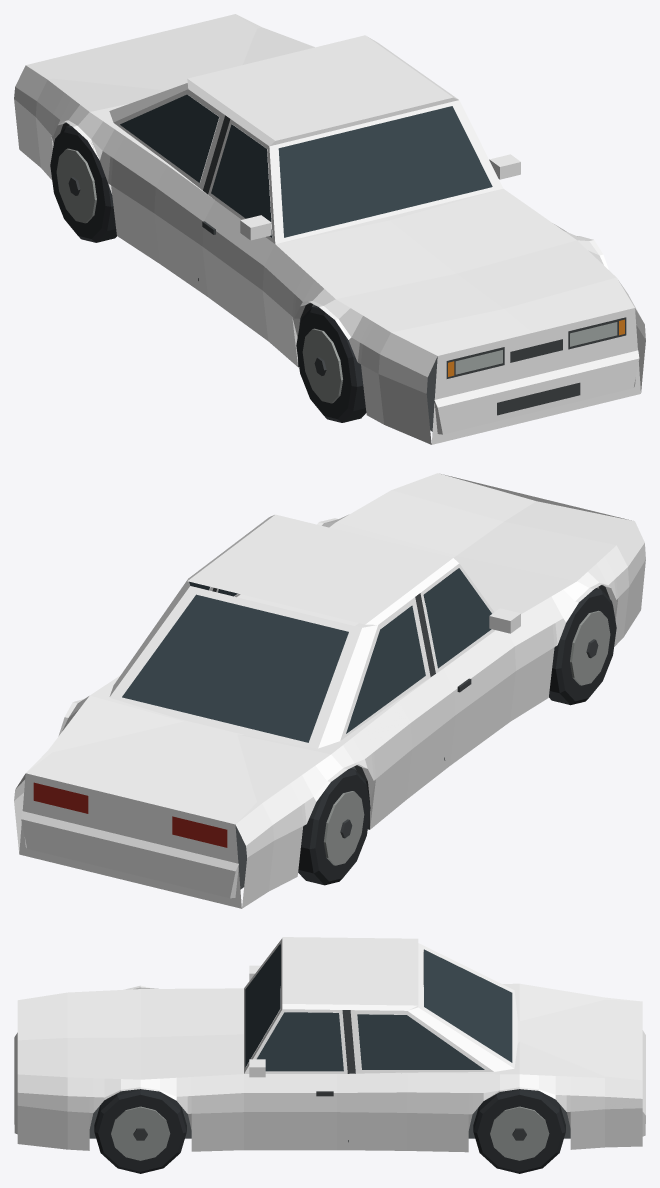
Rendered from bancroft_sidewinder.glb.
3 views of the same model, one above another, from view 1: azimuth 30°, elevation 25°; view 2: azimuth 150°, elevation 25°; view 3: azimuth 270°, elevation 25° (orthographic). The views are drawn at different scales.
Parts seen in each view (by area): view 1: bancroft_sidewinder; view 2: bancroft_sidewinder; view 3: bancroft_sidewinder.
Part boxes in pixels (x1=…): bancroft_sidewinder: x1=14, y1=14, x2=645, y2=444; bancroft_sidewinder: x1=14, y1=473, x2=645, y2=908; bancroft_sidewinder: x1=14, y1=937, x2=645, y2=1173.
Bounding box in the file's own units: 1.82 × 1.27 × 4.7.
8 materials, 1 textured.
